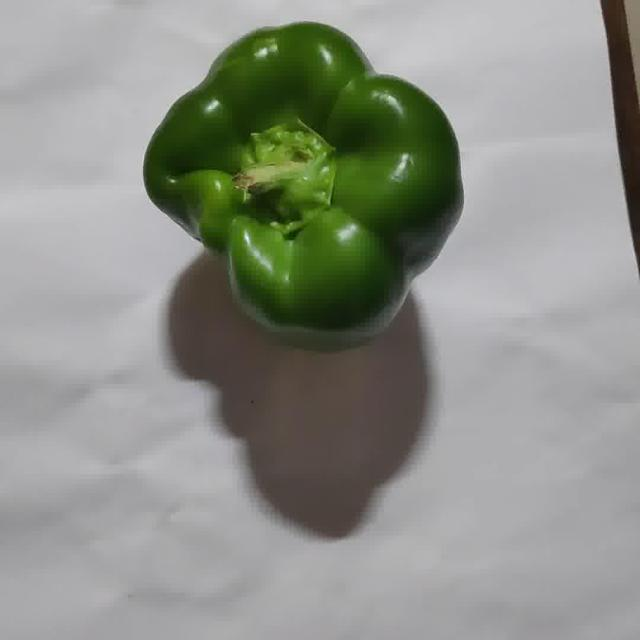Bell Pepper: (143, 23, 463, 348)
